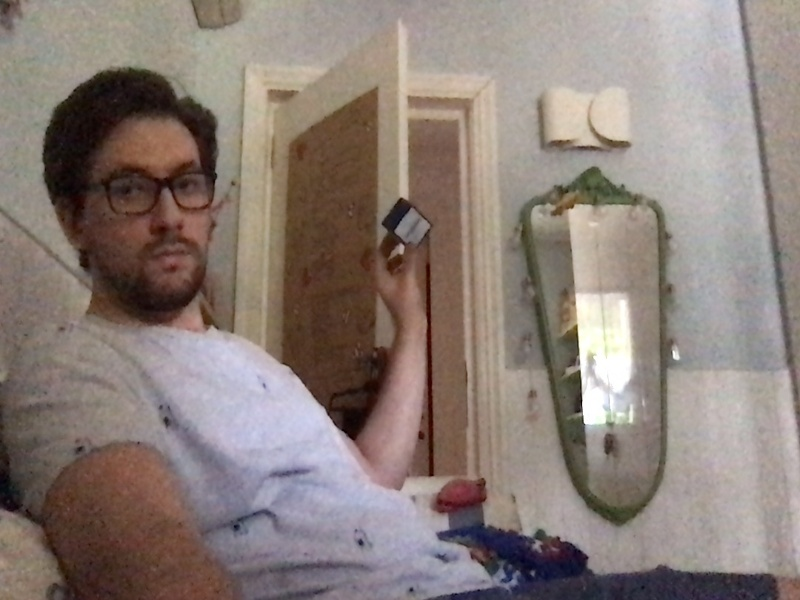rubik: (379, 197, 433, 249)
